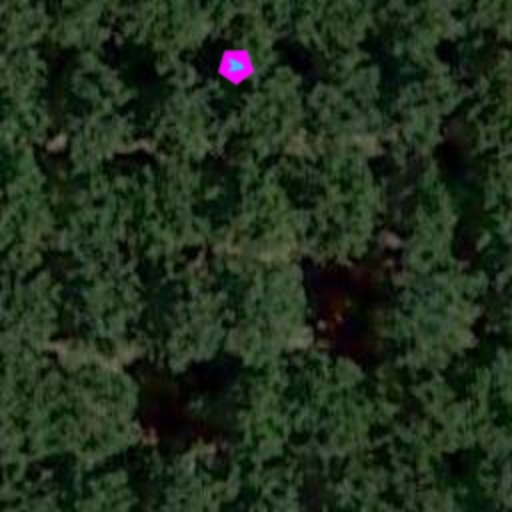pentagon: (216, 46, 256, 86)
